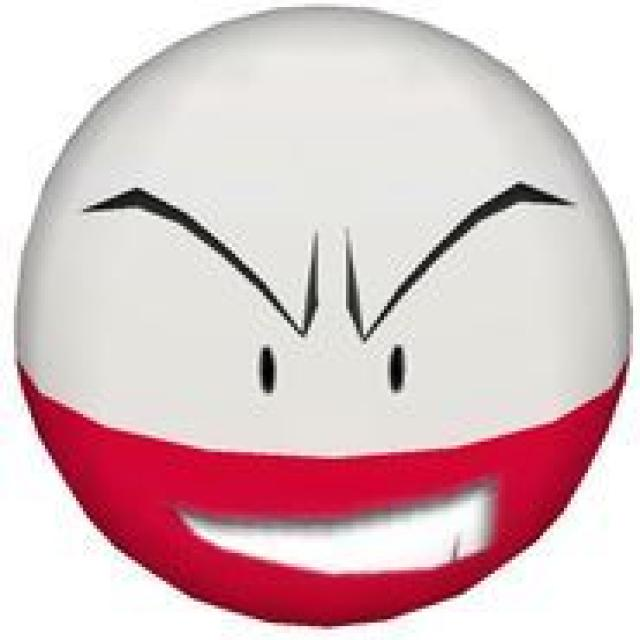Electrode: (13, 2, 640, 627)
